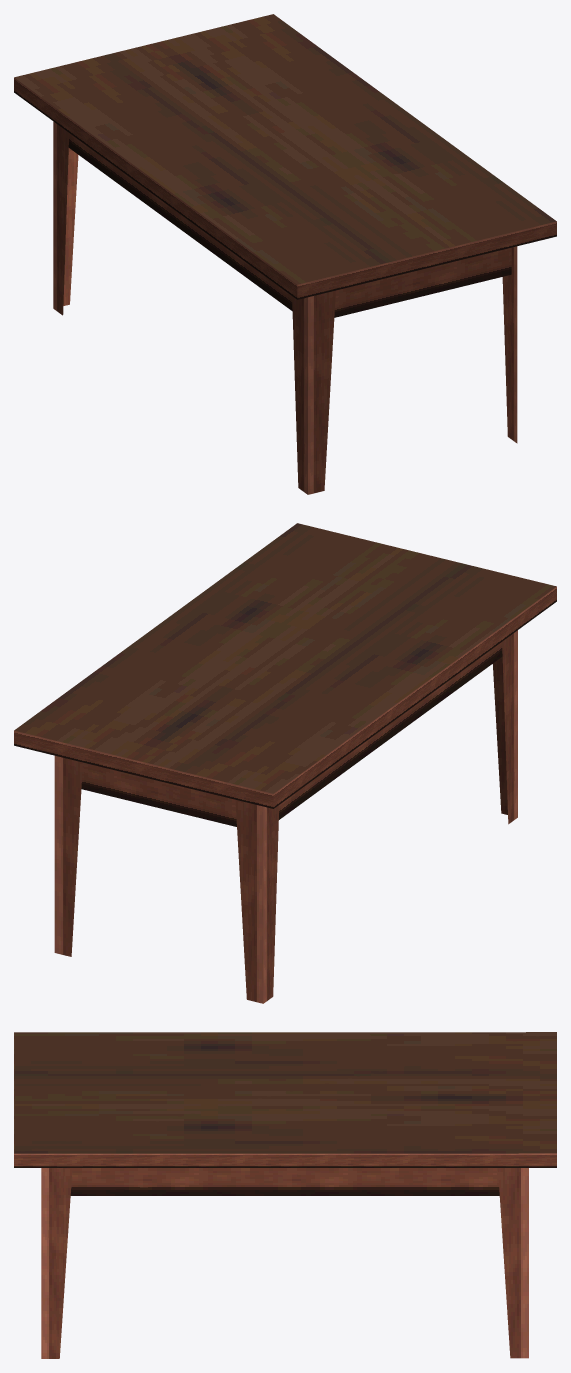
Rendered from primary_21.glb.
3 views of the same model, one above another, from view 1: azimuth 30°, elevation 25°; view 2: azimuth 150°, elevation 25°; view 3: azimuth 270°, elevation 25° (orthographic). The views are drawn at different scales.
Visible parts, largest first — view 1: Object; view 2: Object; view 3: Object.
Part boxes in pixels (left/top/right/bottom): Object: left=14, top=14, right=556, bottom=494; Object: left=14, top=523, right=556, bottom=1003; Object: left=14, top=1032, right=556, bottom=1358.
Size of the model in its own units: 1.4 by 1.17 by 2.65.
4 materials, 4 textured.
